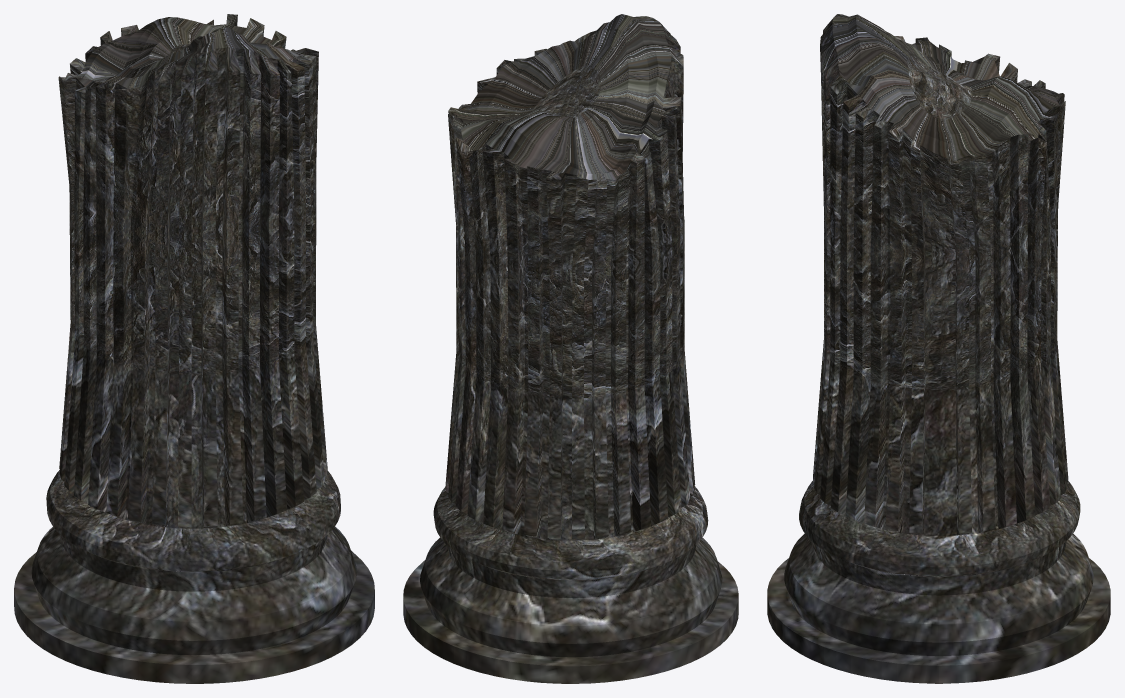
File: Broken.fbx
3 views of the same model, side by side, from view 1: azimuth 30°, elevation 25°; view 2: azimuth 150°, elevation 25°; view 3: azimuth 270°, elevation 25° (orthographic). The views are drawn at different scales.
Parts seen in each view (by area): view 1: Cylinder; view 2: Cylinder; view 3: Cylinder.
Part boxes in pixels (x1=…): Cylinder: x1=14, y1=14, x2=374, y2=683; Cylinder: x1=403, y1=14, x2=738, y2=683; Cylinder: x1=767, y1=14, x2=1110, y2=683.
Size of the model in its own units: 303 by 569 by 302.
